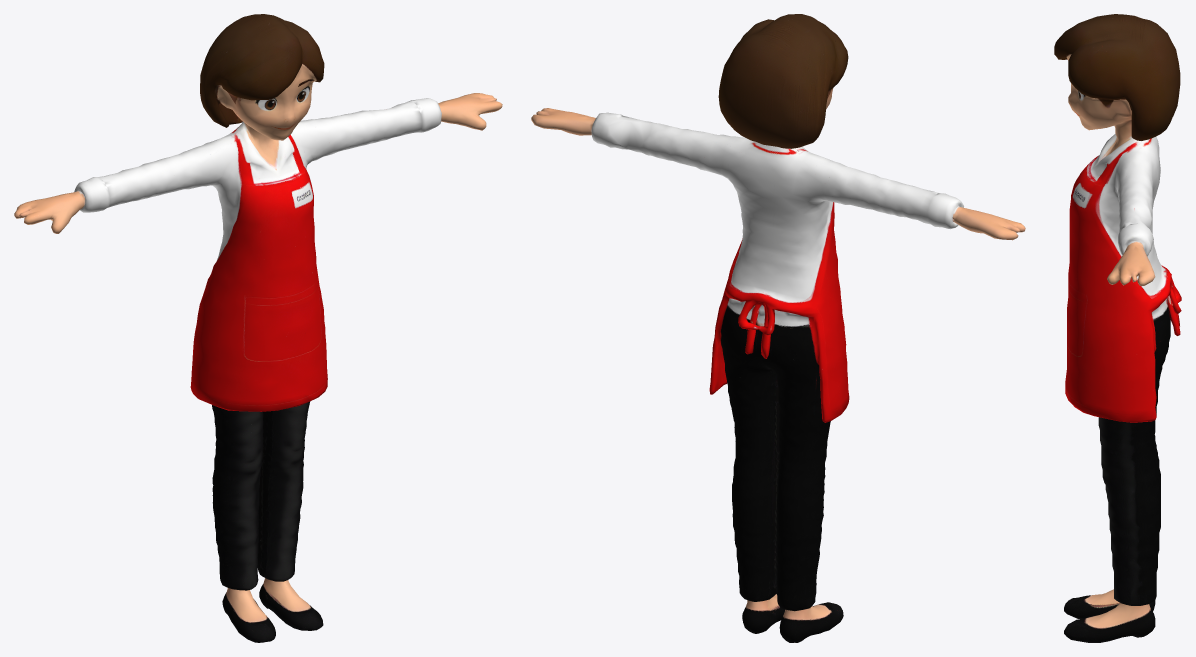
Rendered from Meshy_AI_Welcoming_Cashier_0531140511_texture.fbx.
3 renders of one model, left to right at view 1: azimuth 30°, elevation 25°; view 2: azimuth 150°, elevation 25°; view 3: azimuth 270°, elevation 25°, orthographic.
Visible parts, largest first — view 1: Mesh_0; view 2: Mesh_0; view 3: Mesh_0.
Part boxes in pixels (x1,y1,x2,y2): Mesh_0: [14, 14, 502, 642]; Mesh_0: [531, 14, 1025, 642]; Mesh_0: [1054, 14, 1181, 642].
Bounding box in the file's own units: 159 × 191 × 36.01.
1 material, 1 textured.
